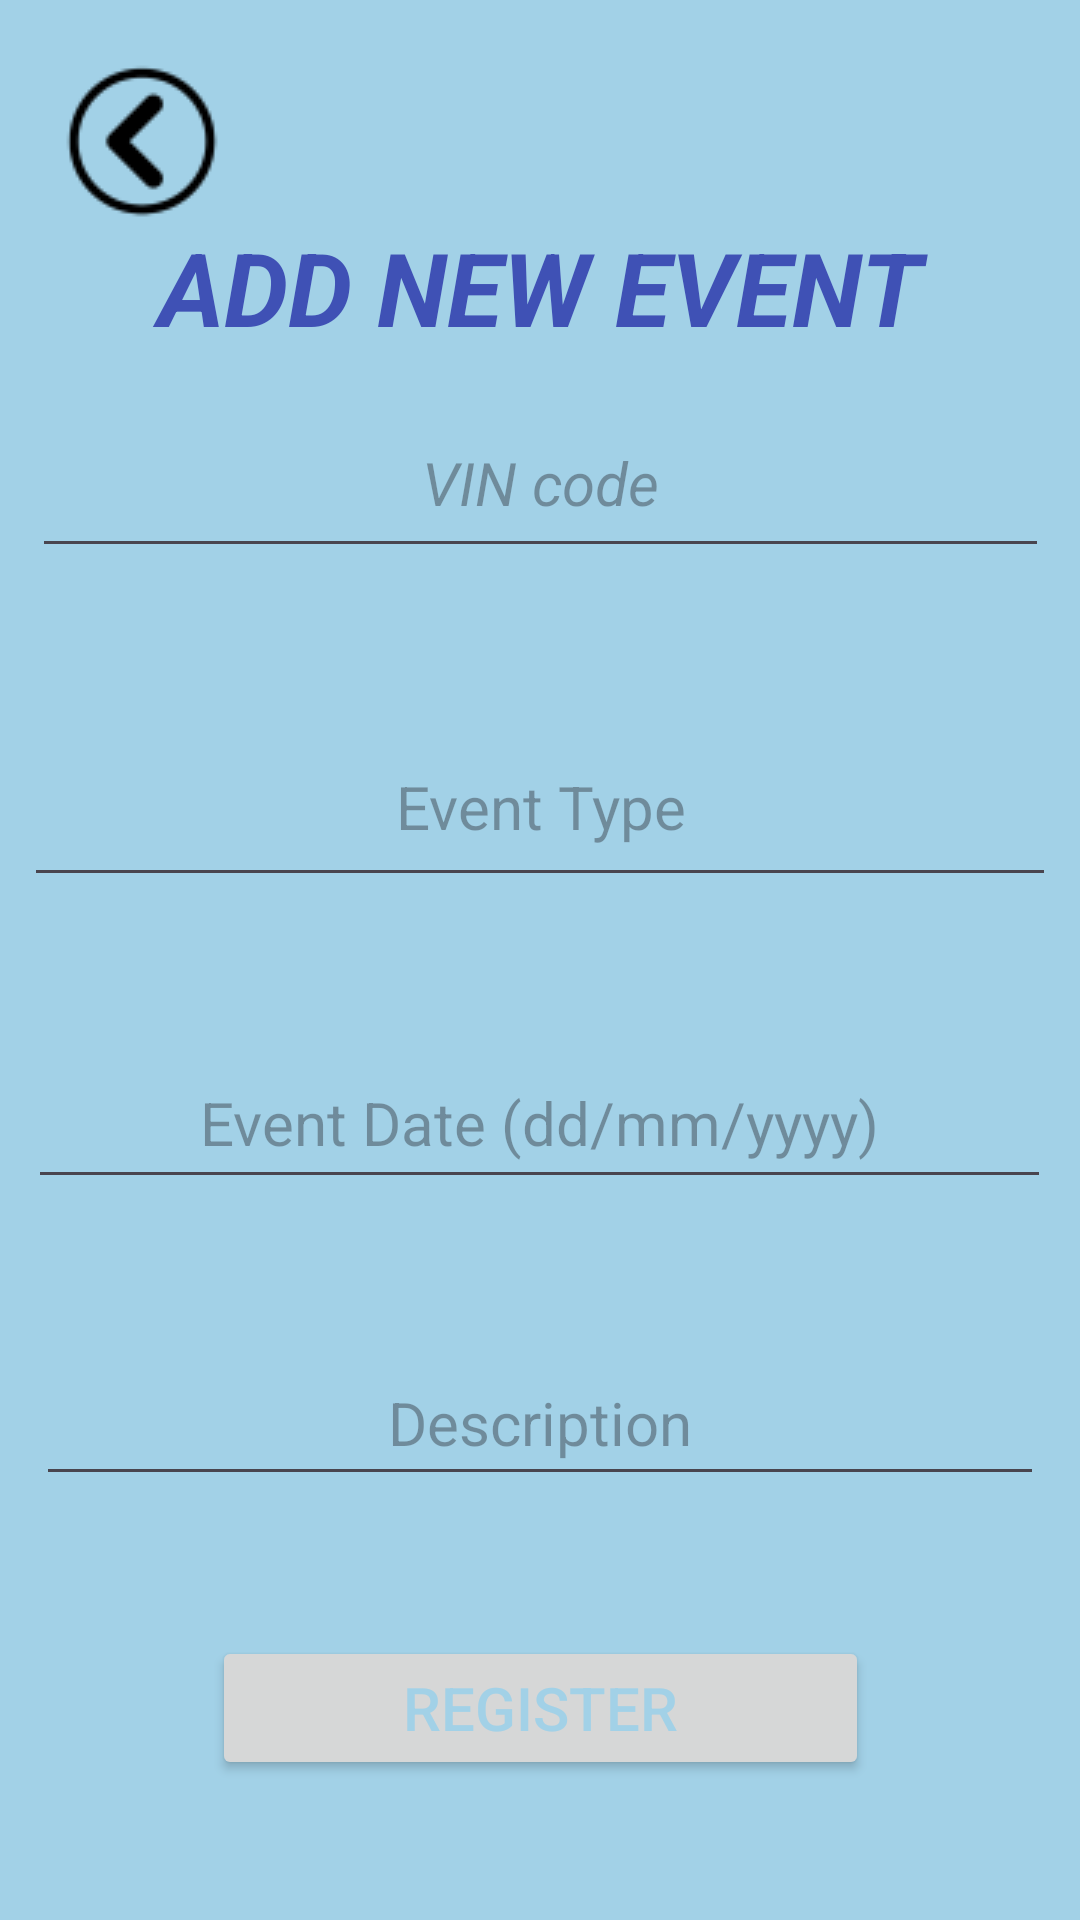

Icon click points for this 1080px x 1920px phone screenshot, format [x,y]:
btngoback: [142,142]
